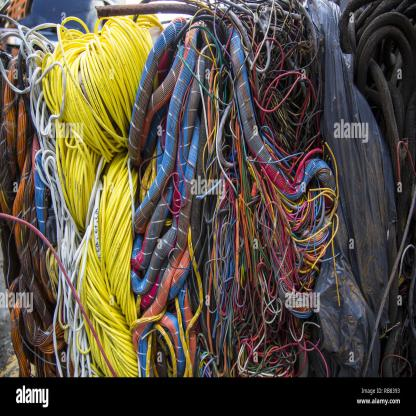wires: (0, 2, 416, 378)
